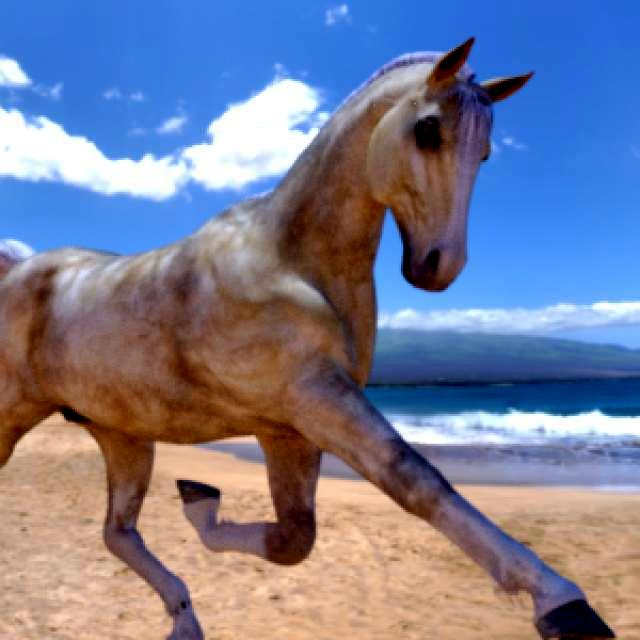horse: (0, 40, 610, 640)
